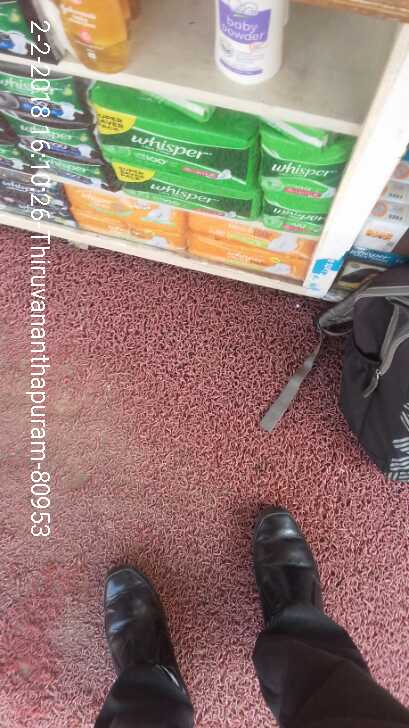whisper: (88, 81, 252, 184), (115, 159, 256, 221), (260, 125, 342, 197), (263, 193, 330, 238)
